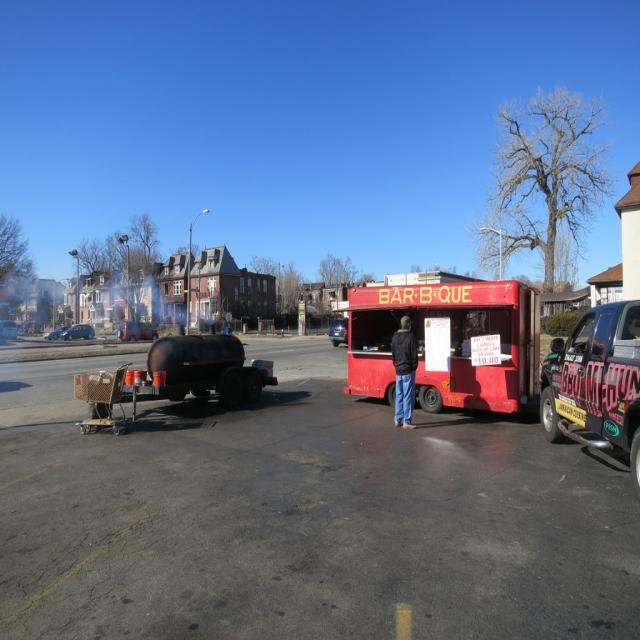car: (550, 284, 634, 464), (324, 317, 349, 347), (61, 323, 96, 337), (47, 322, 71, 337)
